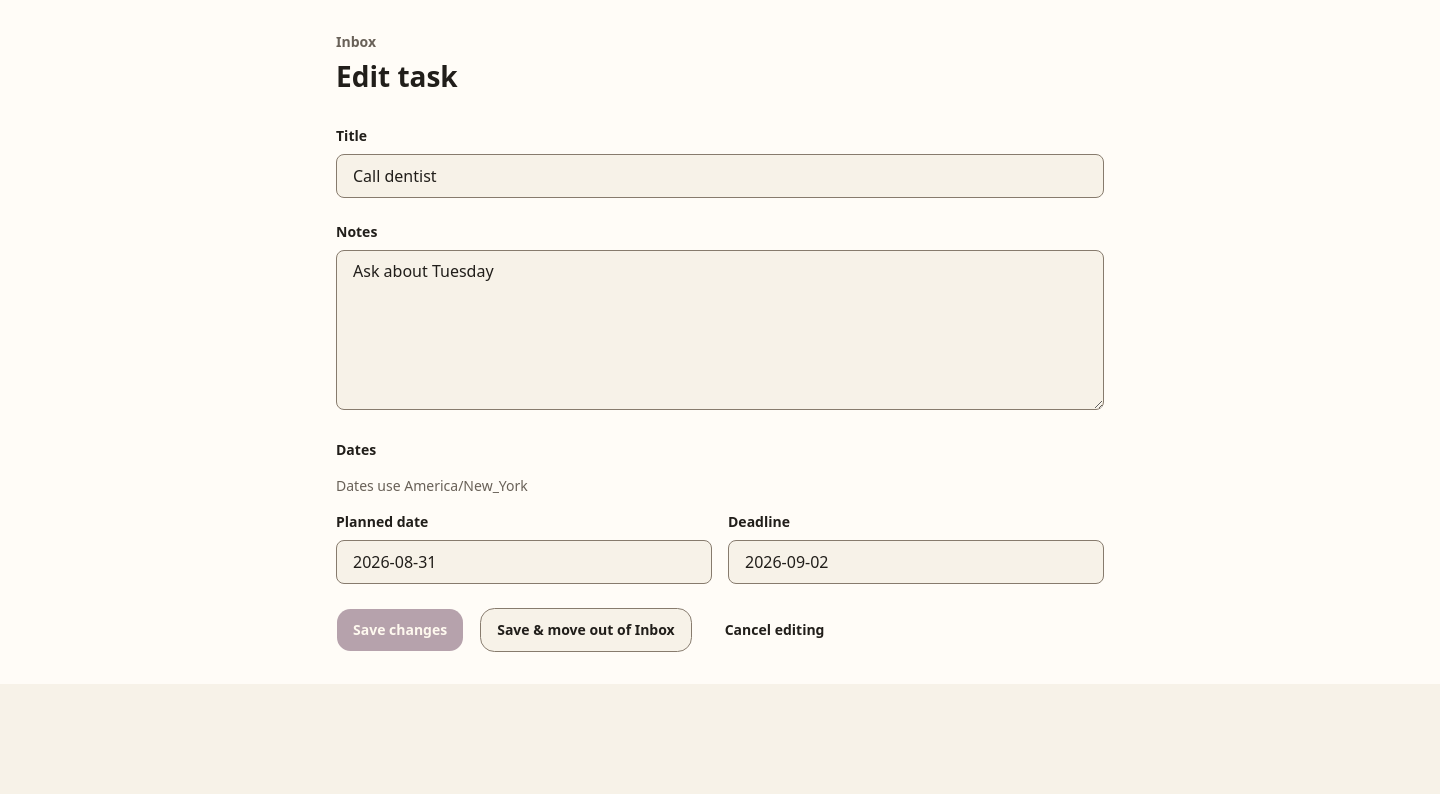
Scenario: canonical task editor › preserves invalid civil-date text and focuses it without submitting
Replace the text in the field labelled "Planned date" with "2026-02-30" at {"x": 524, "y": 562}, box [336,540,712,584]
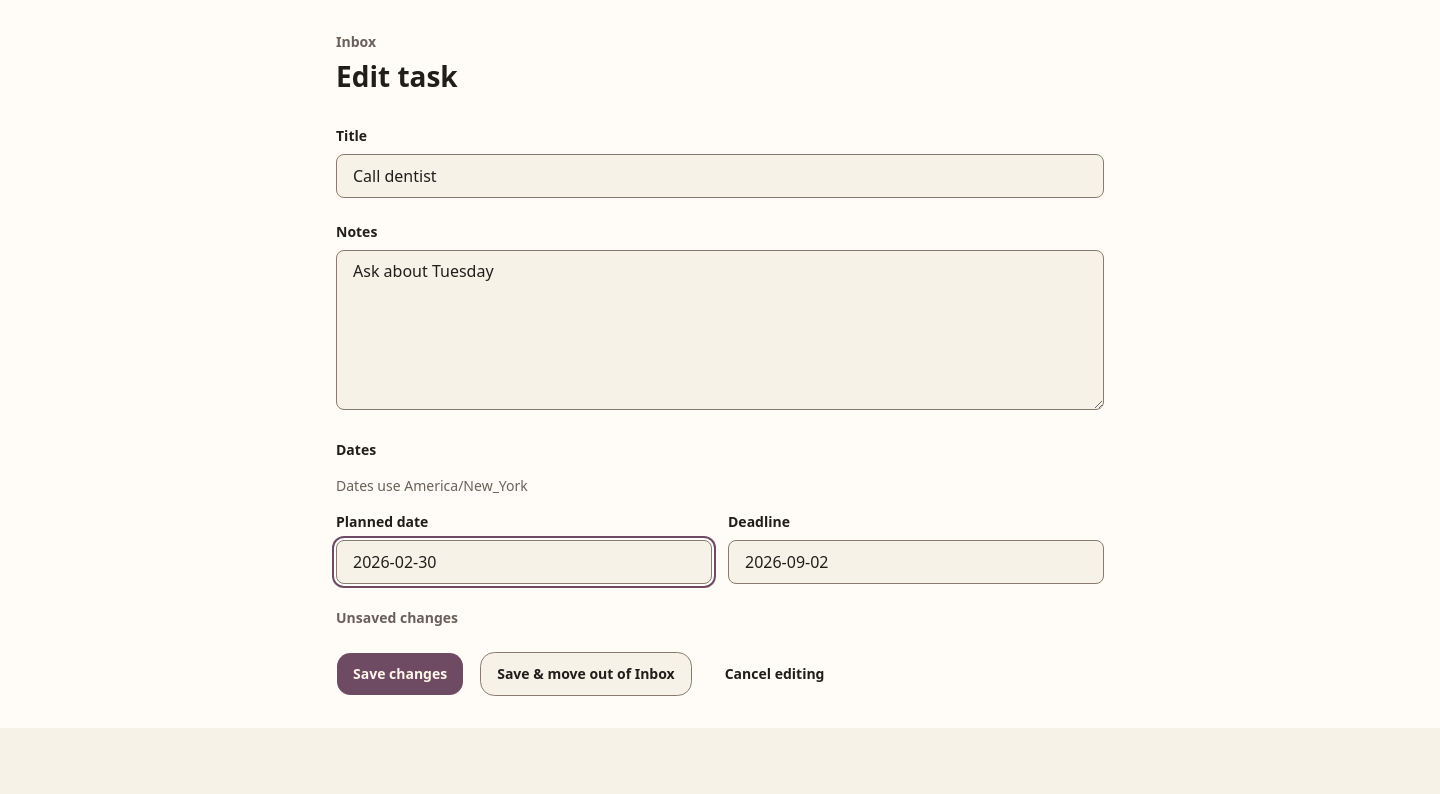
Click the button "Save changes".
click(400, 674)  # box [336,652,464,696]
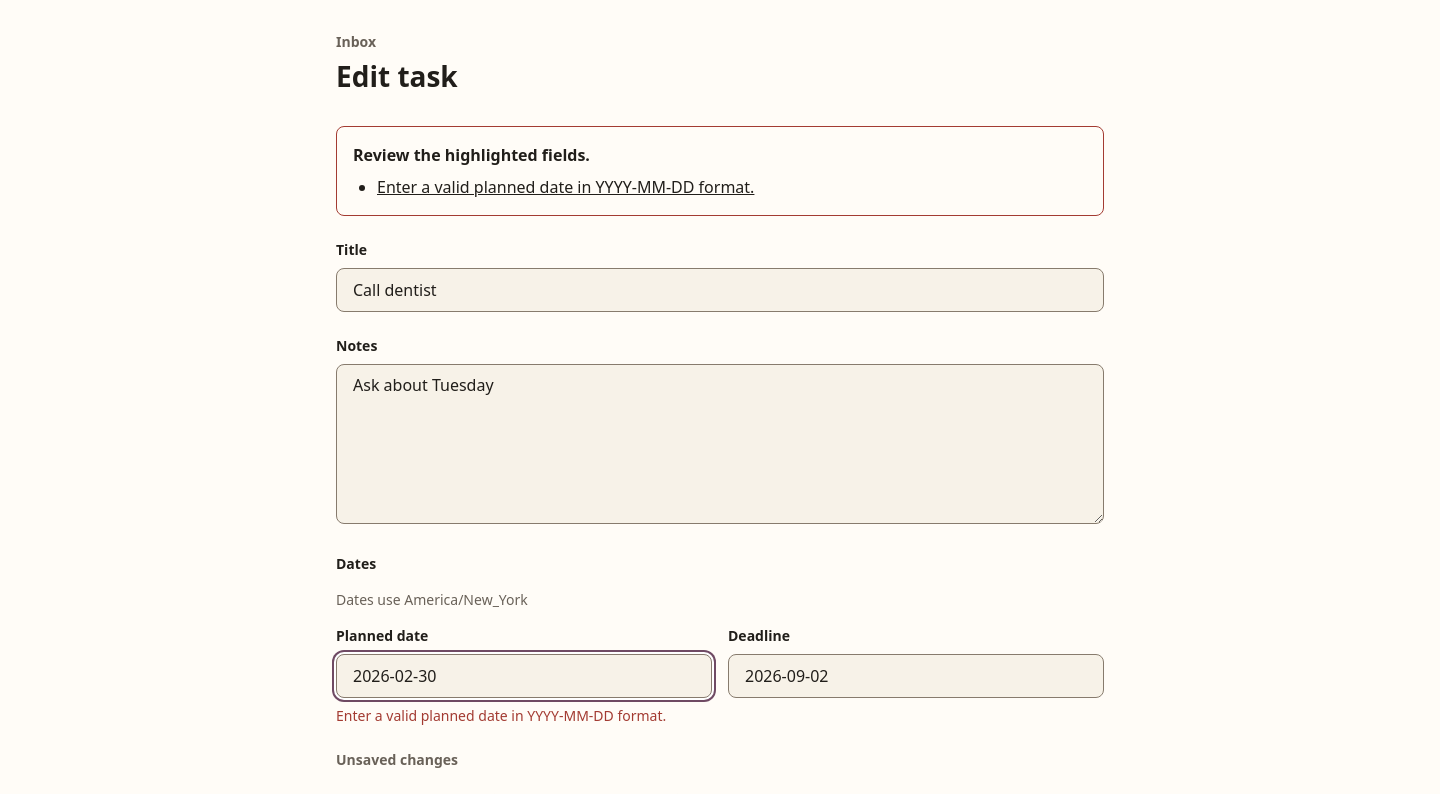
Expected: the number of links "Enter a valid planned date in YYYY-MM-DD format." is 2, [377,176,754,198]; [336,706,712,726]
